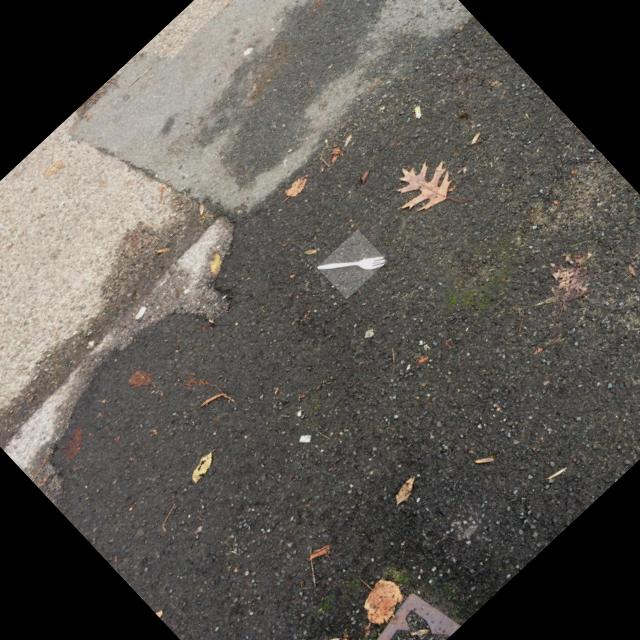Cigarette: (415, 105, 423, 118)
Other container: (318, 256, 386, 269)
